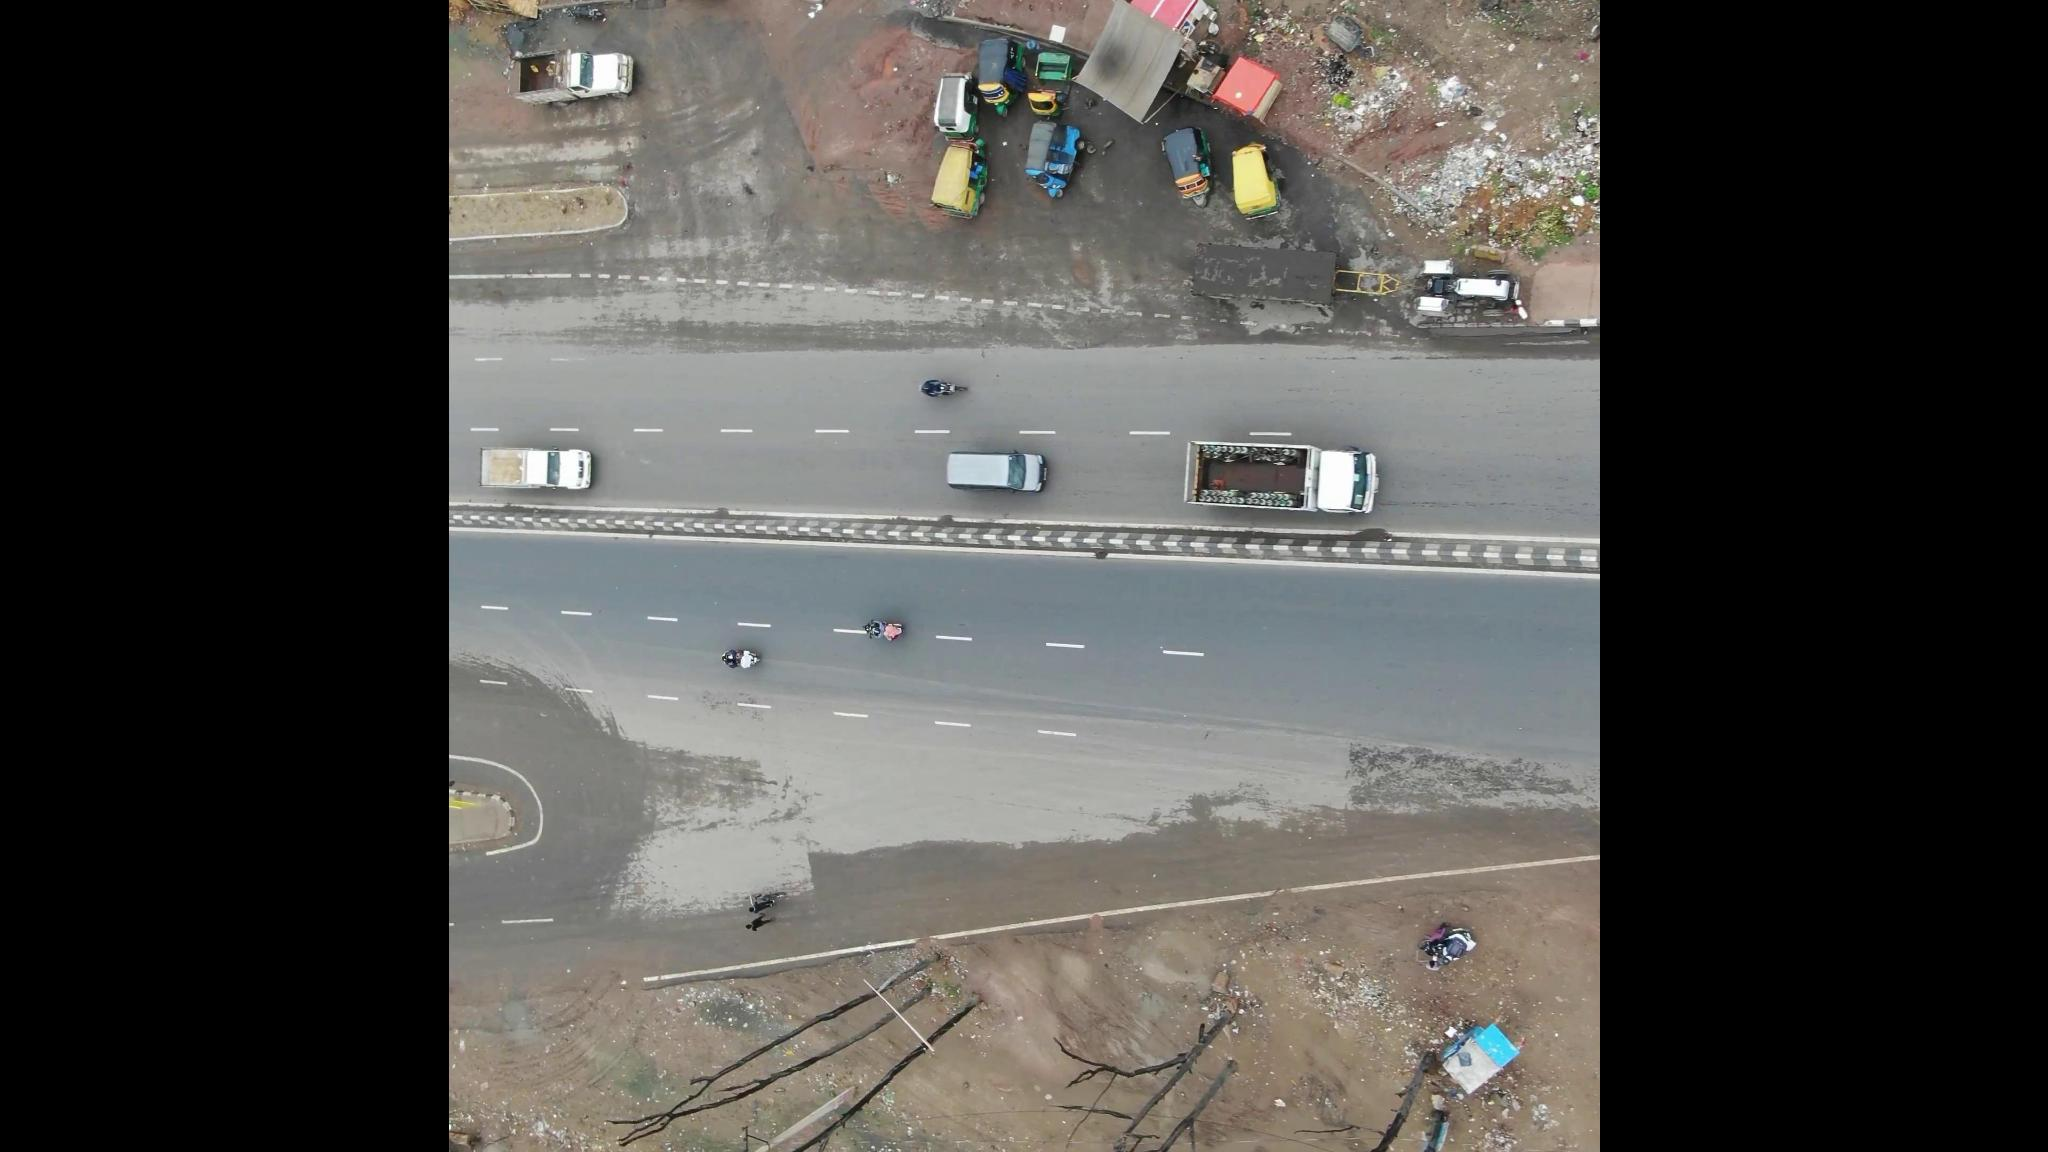Ravelling: (1312, 736, 1575, 823)
